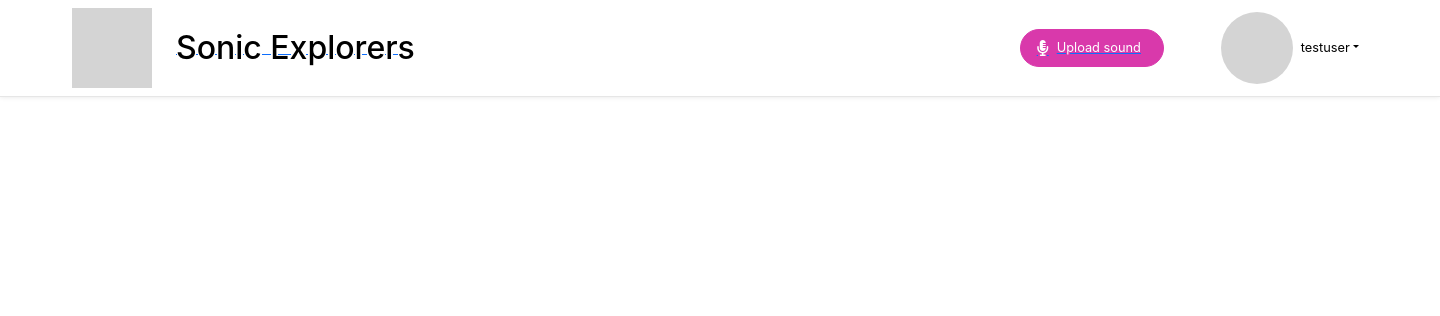
renders sign in and sign up links for signed-out users
Click the button "testuser".
click(1285, 48)  # box x1=1221 y1=12 x2=1350 y2=84
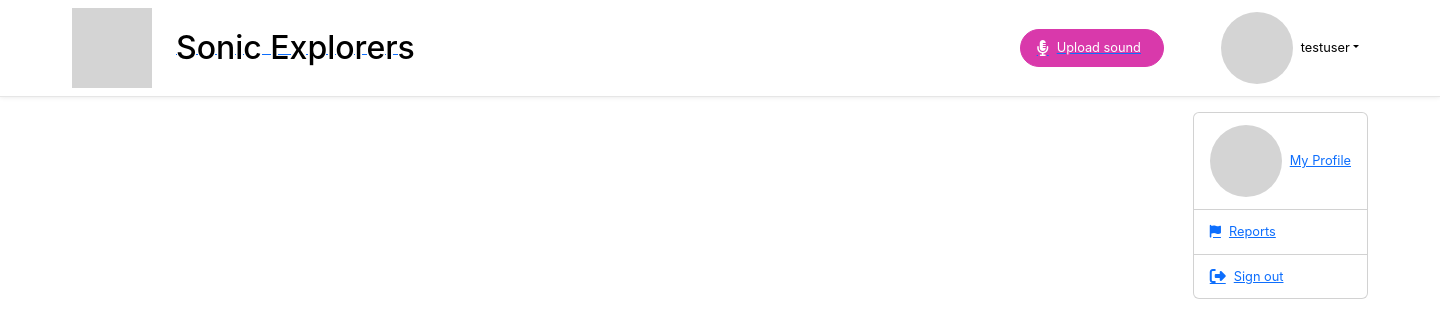
Click the link "Sign out".
click(1247, 276)  # box x1=1210 y1=268 x2=1284 y2=284
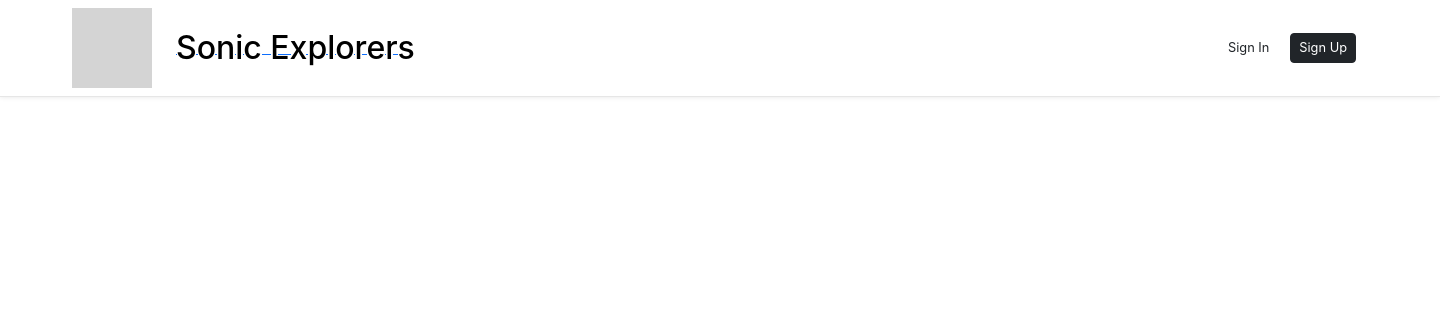
Expected: the link "Sign In" is shown, x1=1219 y1=33 x2=1278 y2=63
Expected: the link "Sign Up" is shown, x1=1290 y1=33 x2=1356 y2=63
